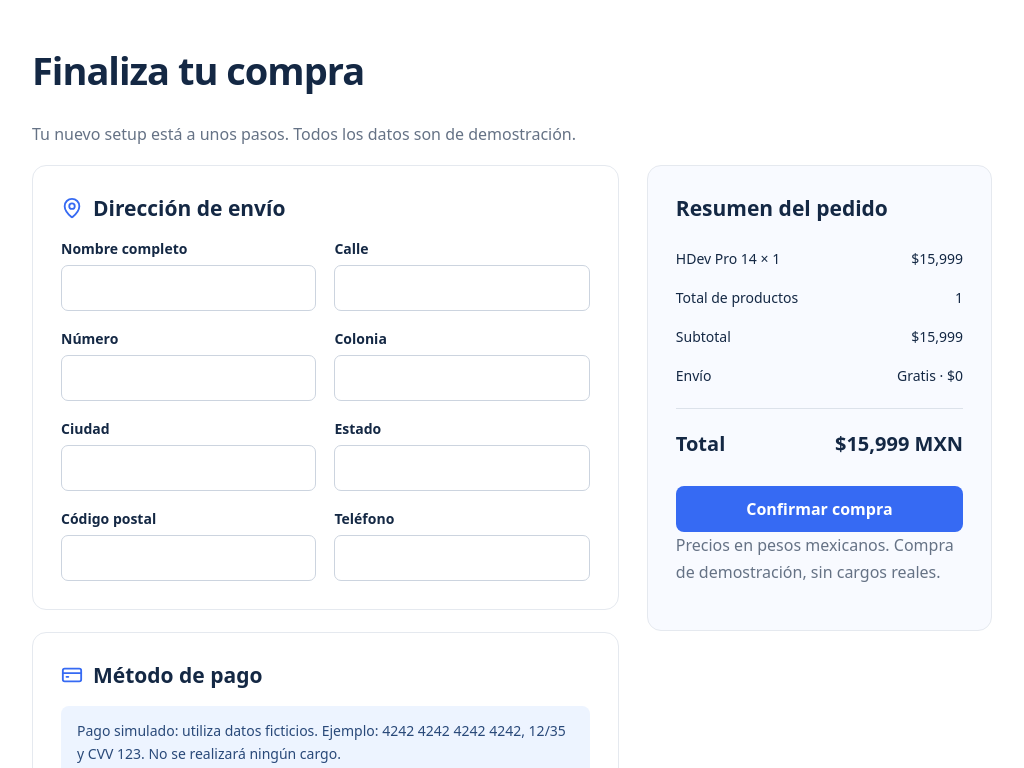
Test: Checkout › renderiza dirección, pago y resumen, y bloquea dirección inválida
This screenshot has width=1024, height=768.
Expected: the heading "Dirección de envío" is shown, [61, 194, 286, 222]
Expected: the heading "Método de pago" is shown, [61, 661, 262, 689]
Click the button "Confirmar compra". click: (819, 509)
box: [676, 486, 963, 532]
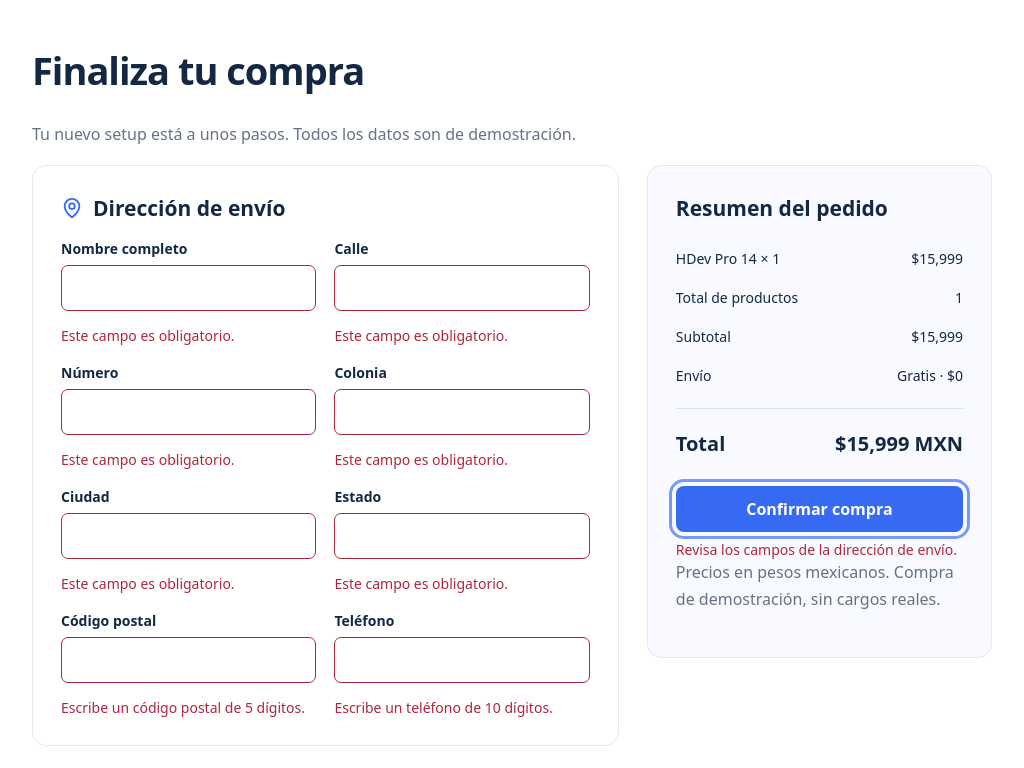
Now the text "Revisa los campos de la dirección de envío." is shown, box [676, 540, 963, 559]
